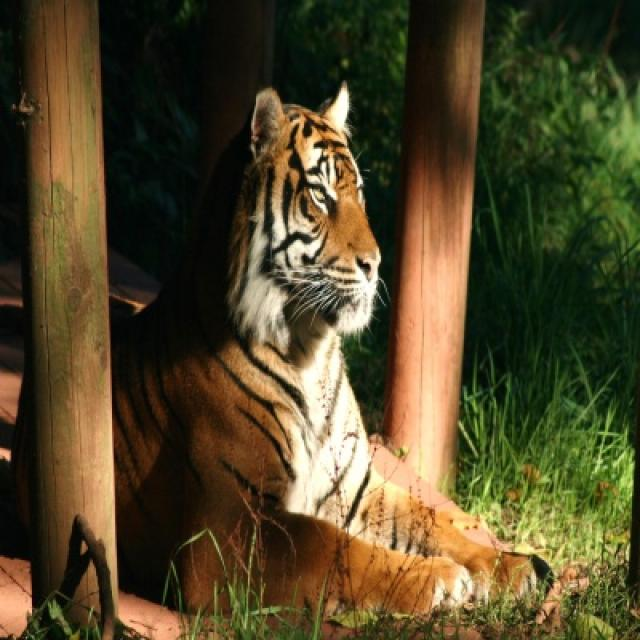Tiger: (107, 80, 562, 623)
